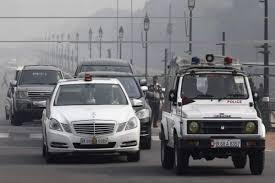Emergency-Vehicles: (153, 52, 267, 177), (43, 72, 142, 164)
